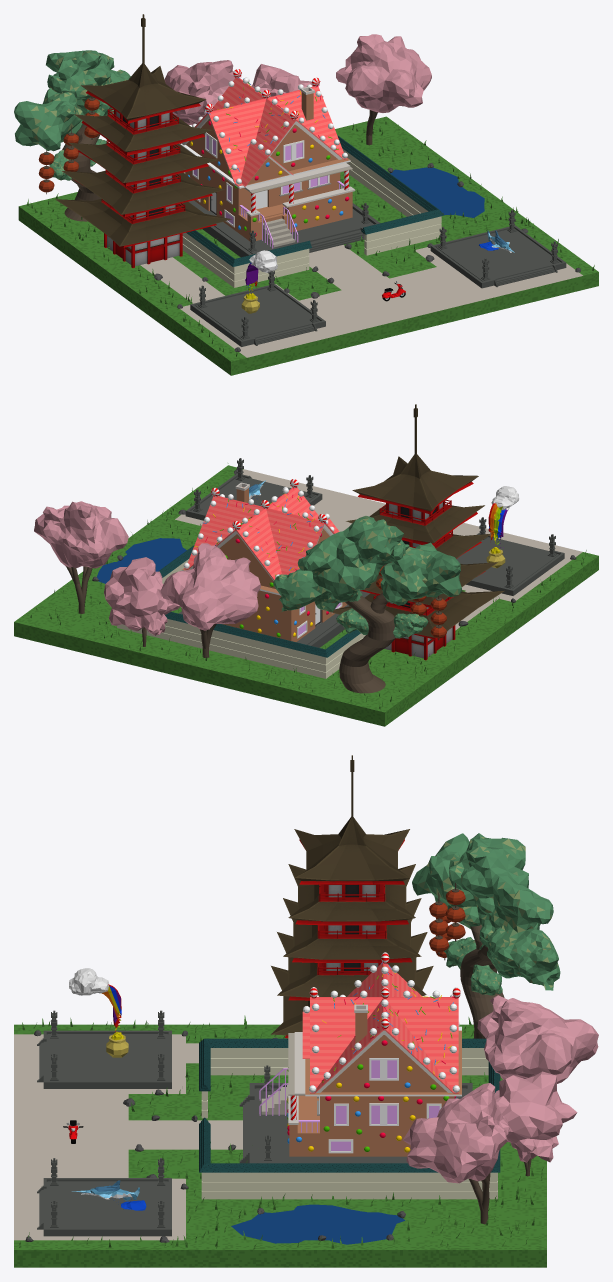
3 renders of one model, top to bottom at view 1: azimuth 30°, elevation 25°; view 2: azimuth 150°, elevation 25°; view 3: azimuth 270°, elevation 25°, orthographic. The views are drawn at different scales.
Visible parts, largest first — view 1: Cube.005, Cube.1203, OBJRANDOM_RAINBOW; view 2: Cube.005, Cube.1203, OBJRANDOM_RAINBOW; view 3: Cube.005, Cube.1203, OBJRANDOM_RAINBOW, ANIMAL_PEZ_ESPADA.
Part boxes in pixels (box(x1,y1,x2,y2)): Cube.005: box(14, 14, 598, 375); Cube.1203: box(179, 69, 355, 248); OBJRANDOM_RAINBOW: box(241, 250, 277, 313); Cube.005: box(14, 404, 598, 726); Cube.1203: box(181, 479, 347, 641); OBJRANDOM_RAINBOW: box(486, 486, 519, 568); Cube.005: box(14, 755, 598, 1267); Cube.1203: box(259, 952, 461, 1156); OBJRANDOM_RAINBOW: box(69, 968, 128, 1057); ANIMAL_PEZ_ESPADA: box(71, 1180, 146, 1210).
Size of the model in its own units: 4528 by 2706 by 4389.
53 materials, 6 textured.
